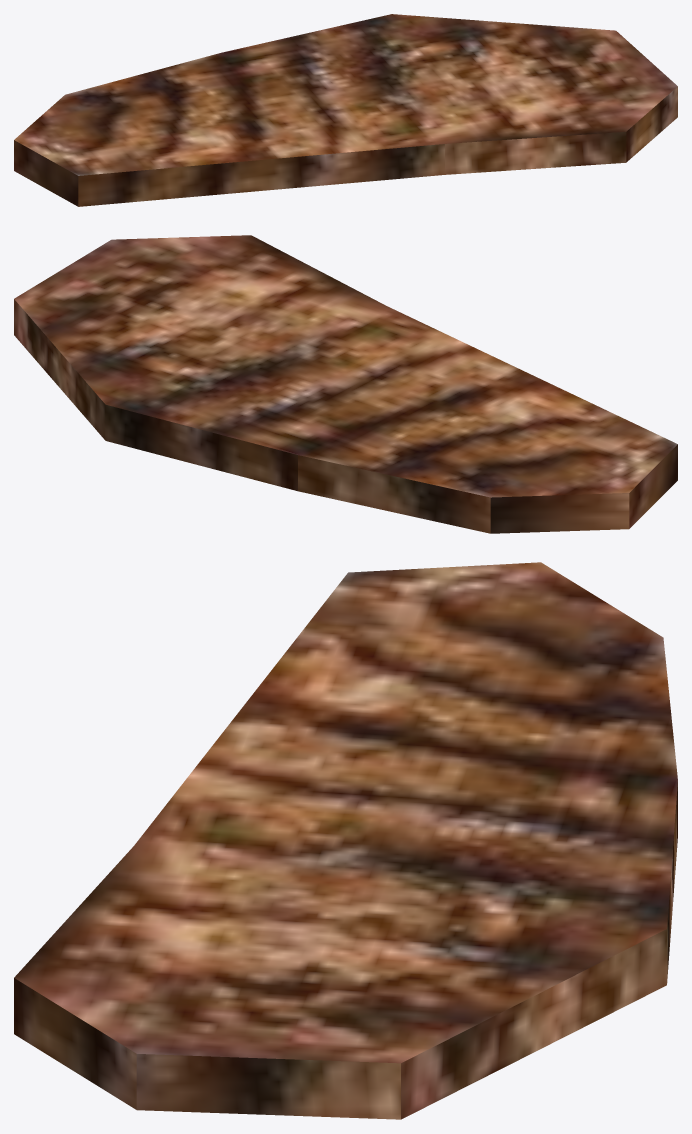
The model's file is Roast_meat_01.glb.
3 views of the same model, one above another, from view 1: azimuth 30°, elevation 25°; view 2: azimuth 150°, elevation 25°; view 3: azimuth 270°, elevation 25° (orthographic). The views are drawn at different scales.
Parts seen in each view (by area): view 1: Roast_meat_01; view 2: Roast_meat_01; view 3: Roast_meat_01.
Boxes of the visible parts, x1,y1,x2,y2 form: Roast_meat_01: (14, 14, 677, 206); Roast_meat_01: (14, 235, 677, 533); Roast_meat_01: (14, 562, 677, 1119).
Size of the model in its own units: 0.4406 by 0.0231 by 0.2468.
Materials: 1 (1 with a texture image).
